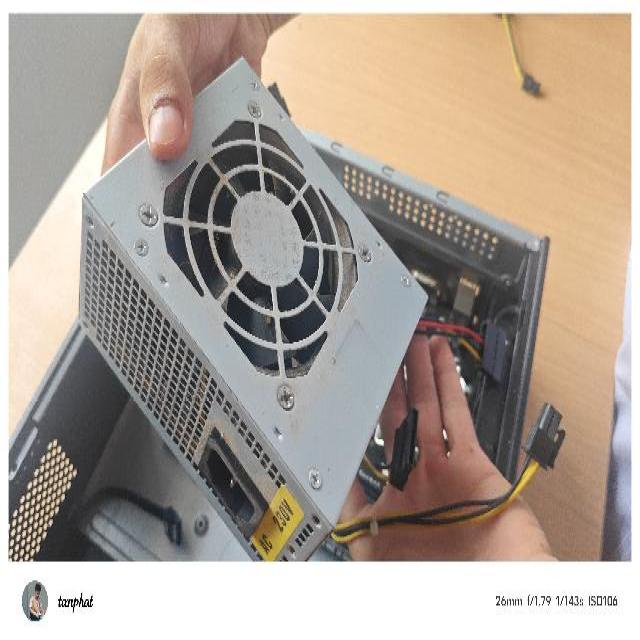PSU: (77, 51, 430, 562)
